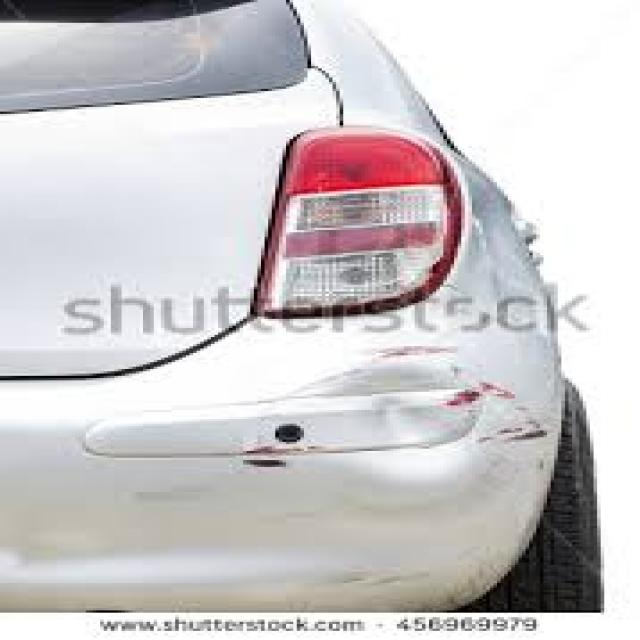minor: (297, 355, 609, 504)
